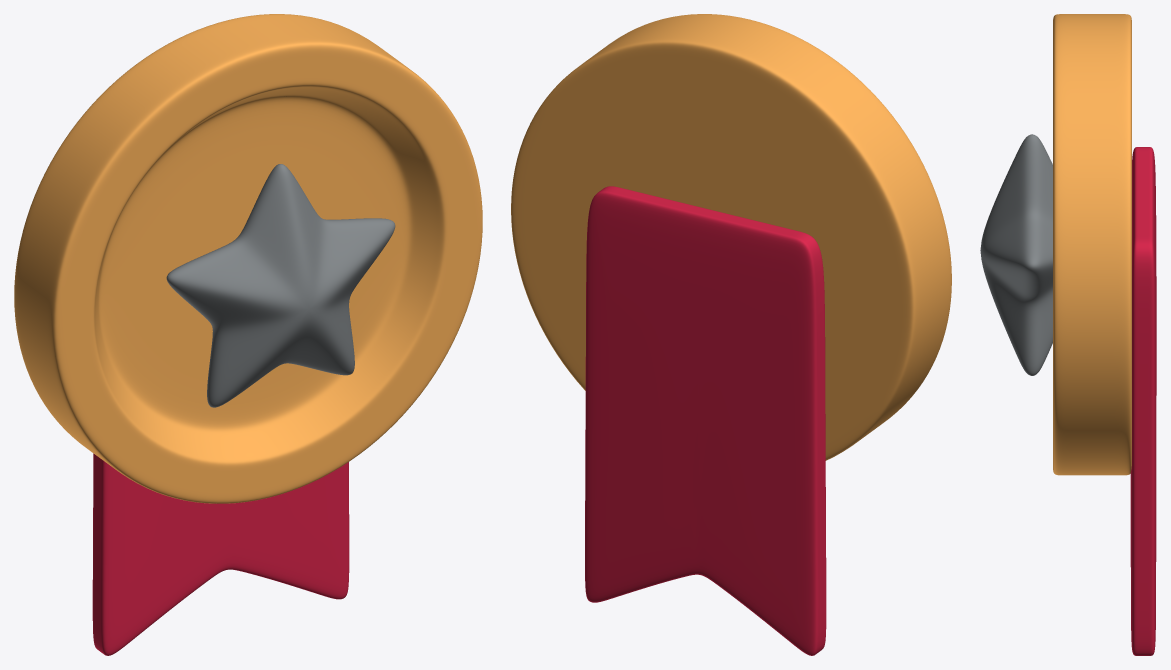
The model's file is medal.fbx.
3 renders of one model, left to right at view 1: azimuth 30°, elevation 25°; view 2: azimuth 150°, elevation 25°; view 3: azimuth 270°, elevation 25°, orthographic. The views are drawn at different scales.
Visible parts, largest first — view 1: Cube.037; view 2: Cube.037; view 3: Cube.037.
Part boxes in pixels (box(x1,y1,x2,y2)): Cube.037: box(14, 14, 482, 655); Cube.037: box(511, 14, 951, 655); Cube.037: box(980, 14, 1156, 655).
Bounding box in the file's own units: 142 × 193 × 54.21.
